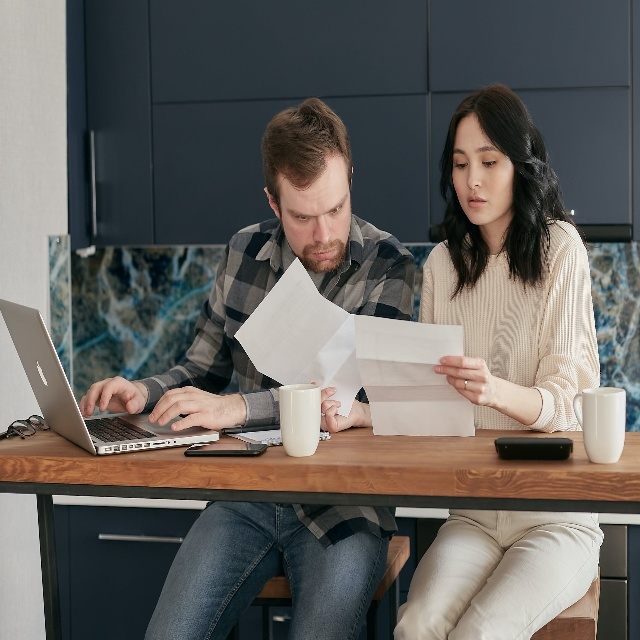Gafas: (5, 413, 49, 441)
Sin_guantes: (148, 385, 237, 431), (432, 352, 495, 405), (76, 375, 148, 420), (311, 377, 359, 434)
